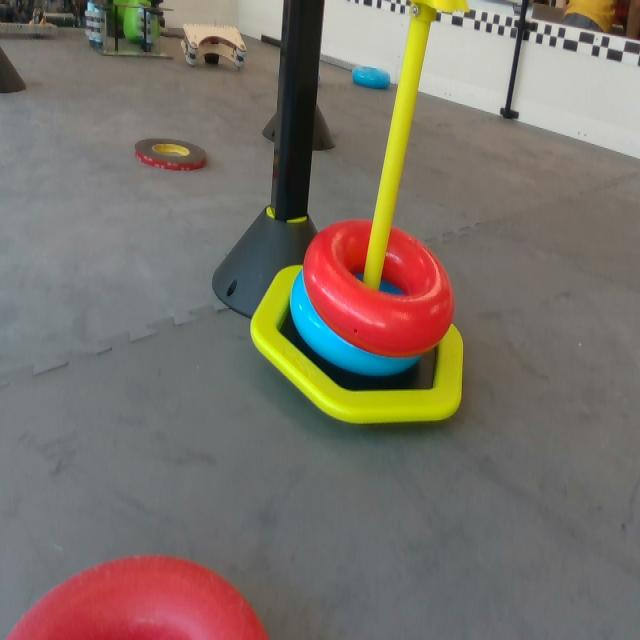Blue-Ring: (290, 273, 423, 377), (351, 64, 392, 91)
Mobile-Goal: (245, 0, 479, 427)
Red-Ring: (6, 560, 269, 639), (305, 218, 457, 352)
Yellow-Stake-Head: (414, 0, 471, 13)
